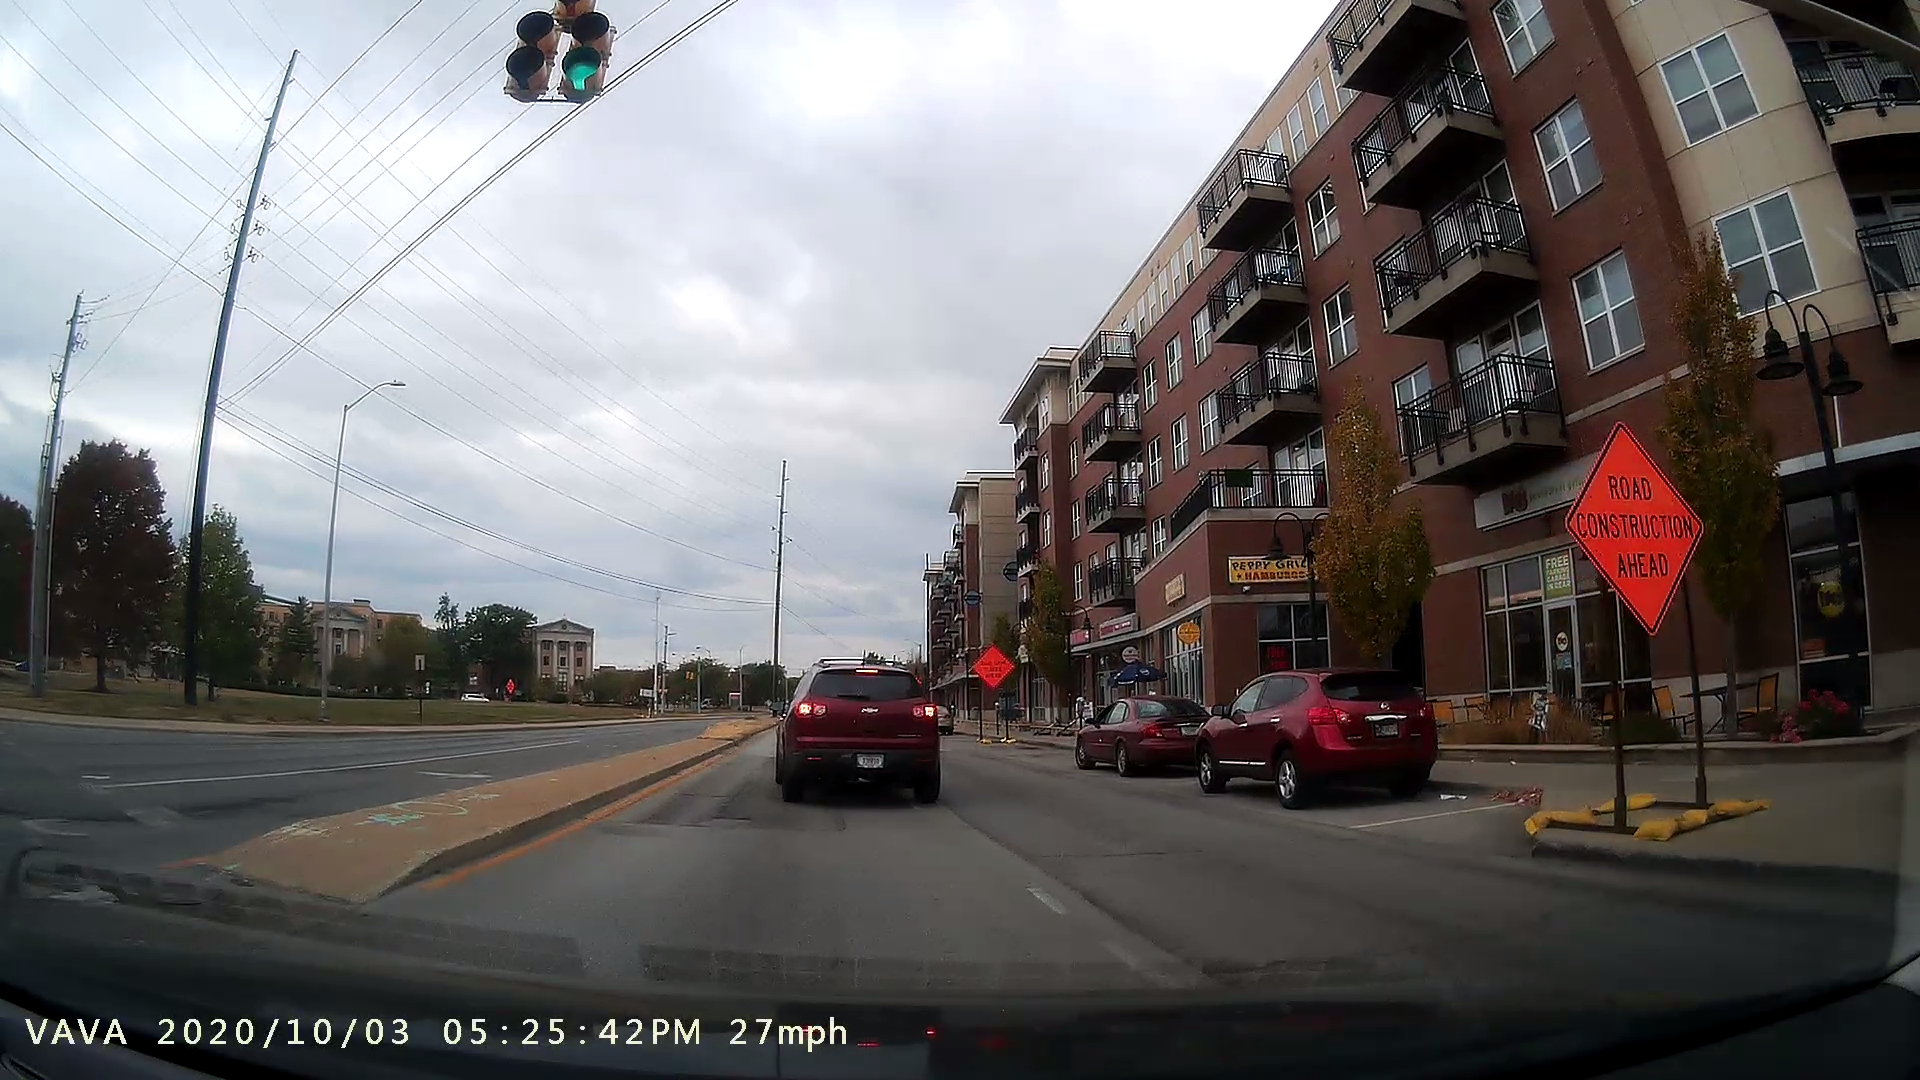ttcs_road_const_ahead: (1522, 404, 1778, 851)
